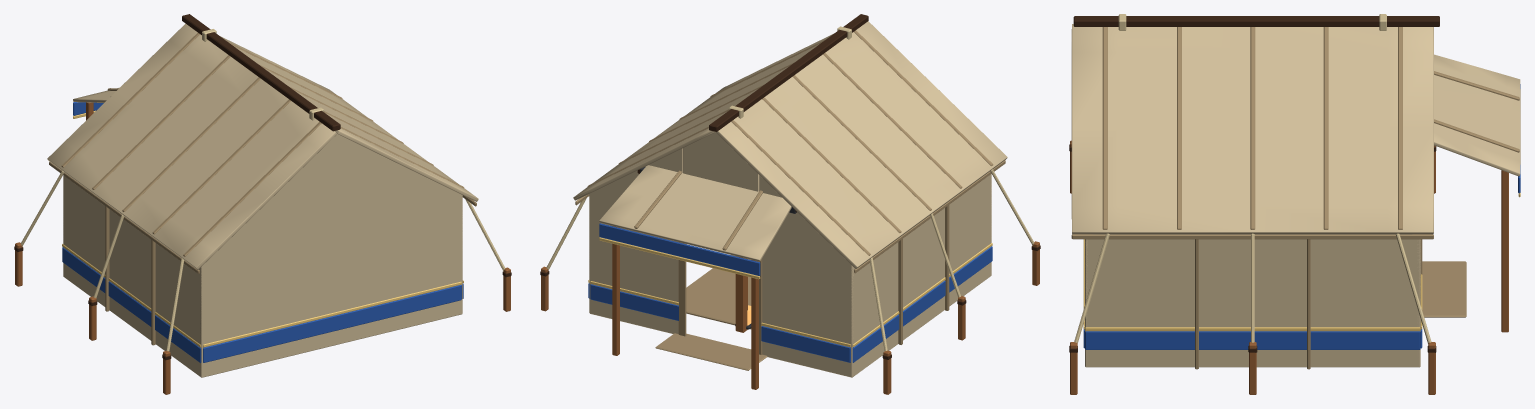
File: 中等帐篷.glb
3 renders of one model, left to right at view 1: azimuth 30°, elevation 25°; view 2: azimuth 150°, elevation 25°; view 3: azimuth 270°, elevation 25°, orthographic. The views are drawn at different scales.
Parts seen in each view (by area): view 1: BR-canvas, BR-team, BR-canvas_dark, BR-wood_dark, BR-team_trim, BR-site_rope, BR-wood_warm; view 2: BR-canvas, BR-canvas_dark, BR-team, BR-wood_warm, BR-wood_dark, BR-team_trim, BR-site_rope; view 3: BR-canvas, BR-canvas_dark, BR-team, BR-wood_dark, BR-wood_warm, BR-team_trim, BR-site_rope.
Boxes of the visible parts, bbox=[...] form: BR-canvas: bbox=[47, 23, 478, 377]; BR-team: bbox=[62, 102, 463, 362]; BR-canvas_dark: bbox=[49, 33, 476, 345]; BR-wood_dark: bbox=[14, 14, 511, 360]; BR-team_trim: bbox=[62, 110, 463, 347]; BR-site_rope: bbox=[20, 29, 505, 351]; BR-wood_warm: bbox=[15, 102, 510, 394]; BR-canvas: bbox=[573, 21, 1007, 377]; BR-canvas_dark: bbox=[575, 30, 1005, 370]; BR-team: bbox=[588, 223, 992, 362]; BR-wood_warm: bbox=[541, 226, 1039, 394]; BR-wood_dark: bbox=[540, 14, 1040, 359]; BR-team_trim: bbox=[588, 237, 992, 347]; BR-site_rope: bbox=[546, 26, 1034, 350]; BR-canvas: bbox=[1071, 24, 1520, 367]; BR-canvas_dark: bbox=[1071, 27, 1519, 369]; BR-team: bbox=[1083, 84, 1520, 349]; BR-wood_dark: bbox=[1069, 16, 1439, 352]; BR-wood_warm: bbox=[1070, 140, 1508, 394]; BR-team_trim: bbox=[1083, 193, 1520, 331]; BR-site_rope: bbox=[1074, 14, 1431, 343].
Size of the model in its own units: 4.77 by 2.99 by 4.44.
